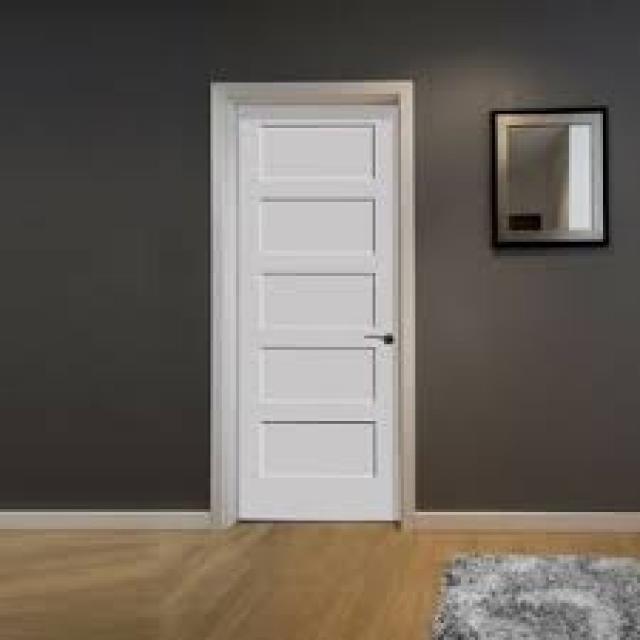Door: (216, 91, 404, 521)
